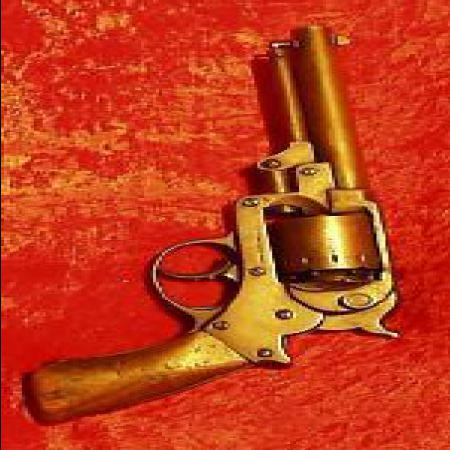Pistol: (24, 24, 406, 429)
